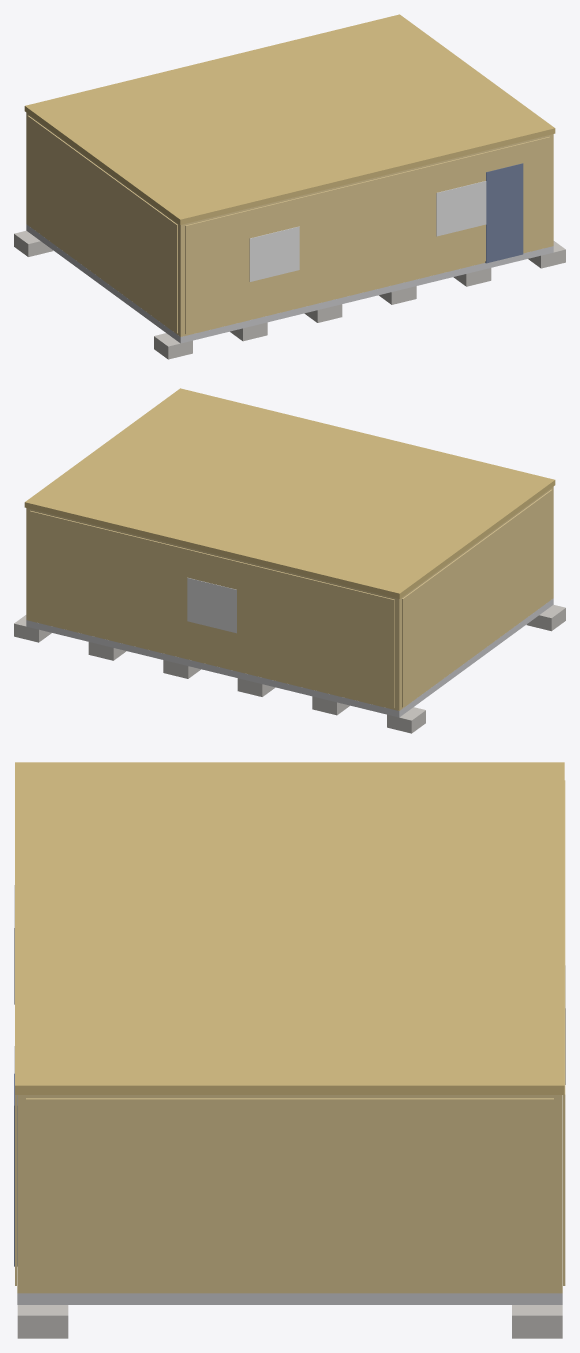
The model's file is Studio-30-Base-GoldenTan-LOD3.glb.
The picture shows the model from 3 angles, top to bottom: view 1: azimuth 30°, elevation 25°; view 2: azimuth 150°, elevation 25°; view 3: azimuth 270°, elevation 25°; orthographic projection. The views are drawn at different scales.
Visible parts, largest first — view 1: RoofMain, ExteriorPanelsStandard, WindowsStandard, BaseFrame, FoundationBlocks, ExteriorShell, EntryDoor; view 2: RoofMain, ExteriorPanelsStandard, BaseFrame, ExteriorShell, FoundationBlocks, WindowsStandard; view 3: RoofMain, ExteriorPanelsStandard, ExteriorShell, BaseFrame, FoundationBlocks.
Boxes of the visible parts, x1,y1,x2,y2 form: RoofMain: (24, 14, 555, 224); ExteriorPanelsStandard: (27, 115, 549, 334); WindowsStandard: (249, 181, 486, 281); BaseFrame: (26, 224, 553, 343); FoundationBlocks: (14, 230, 565, 359); ExteriorShell: (26, 112, 553, 336); EntryDoor: (485, 163, 523, 263); RoofMain: (24, 388, 555, 598); ExteriorPanelsStandard: (30, 489, 552, 708); BaseFrame: (26, 598, 553, 717); ExteriorShell: (26, 486, 553, 710); FoundationBlocks: (14, 604, 565, 733); WindowsStandard: (187, 577, 236, 633); RoofMain: (15, 762, 564, 1094); ExteriorPanelsStandard: (15, 780, 565, 1290); ExteriorShell: (17, 1095, 562, 1293); BaseFrame: (17, 1293, 562, 1304); FoundationBlocks: (17, 1305, 562, 1338).
Bounding box in the file's own units: 9.6 × 3.17 × 6.53.
